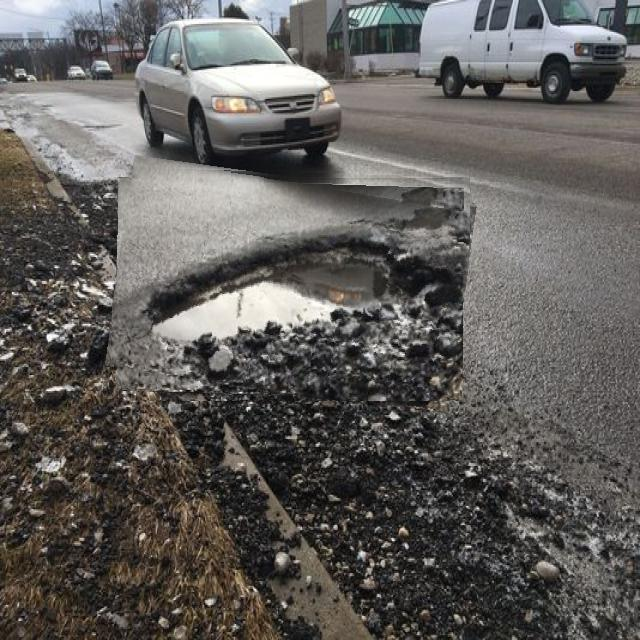Pothole: (112, 167, 470, 401)
